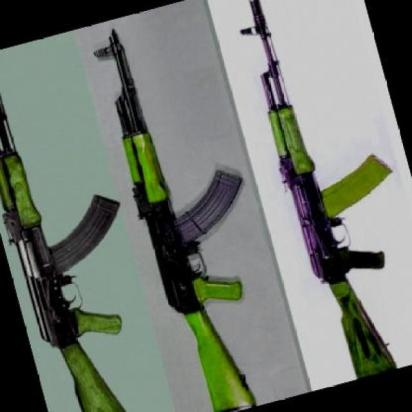Gun: (88, 2, 305, 412), (217, 0, 412, 388), (0, 33, 185, 411)
